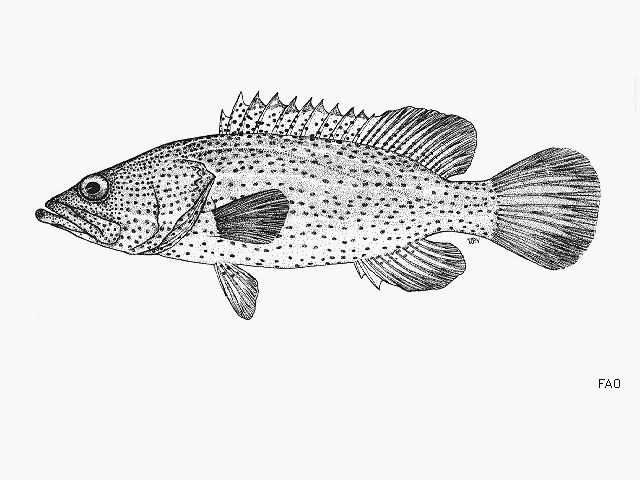fish: (32, 93, 602, 322)
